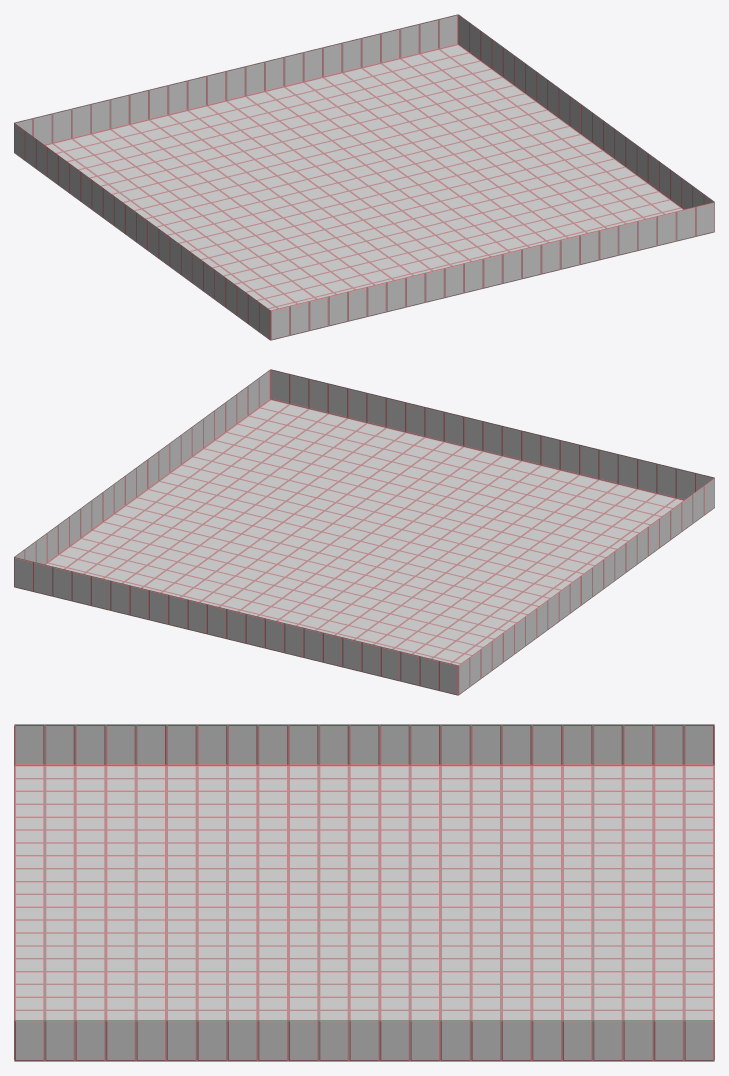
File: level.fbx
3 views of the same model, one above another, from view 1: azimuth 30°, elevation 25°; view 2: azimuth 150°, elevation 25°; view 3: azimuth 270°, elevation 25° (orthographic). The views are drawn at different scales.
Parts seen in each view (by area): view 1: Floor, Walls.001, Walls.003, Walls, Walls.002; view 2: Floor, Walls.003, Walls.001, Walls, Walls.002; view 3: Floor, Walls, Walls.002.
Boxes of the visible parts, box(x1,y1,x2,y2) form: Floor: box(45, 44, 683, 310); Walls.001: box(270, 202, 714, 340); Walls.003: box(14, 14, 458, 145); Walls: box(14, 123, 270, 340); Walls.002: box(458, 14, 714, 209); Floor: box(45, 399, 683, 665); Walls.003: box(14, 557, 458, 695); Walls.001: box(270, 369, 714, 500); Walls: box(458, 478, 714, 695); Walls.002: box(14, 369, 270, 564); Floor: box(14, 765, 714, 1020); Walls: box(14, 724, 714, 765); Walls.002: box(14, 1020, 714, 1061).
Bounding box in the file's own units: 4605 × 300 × 4605.
